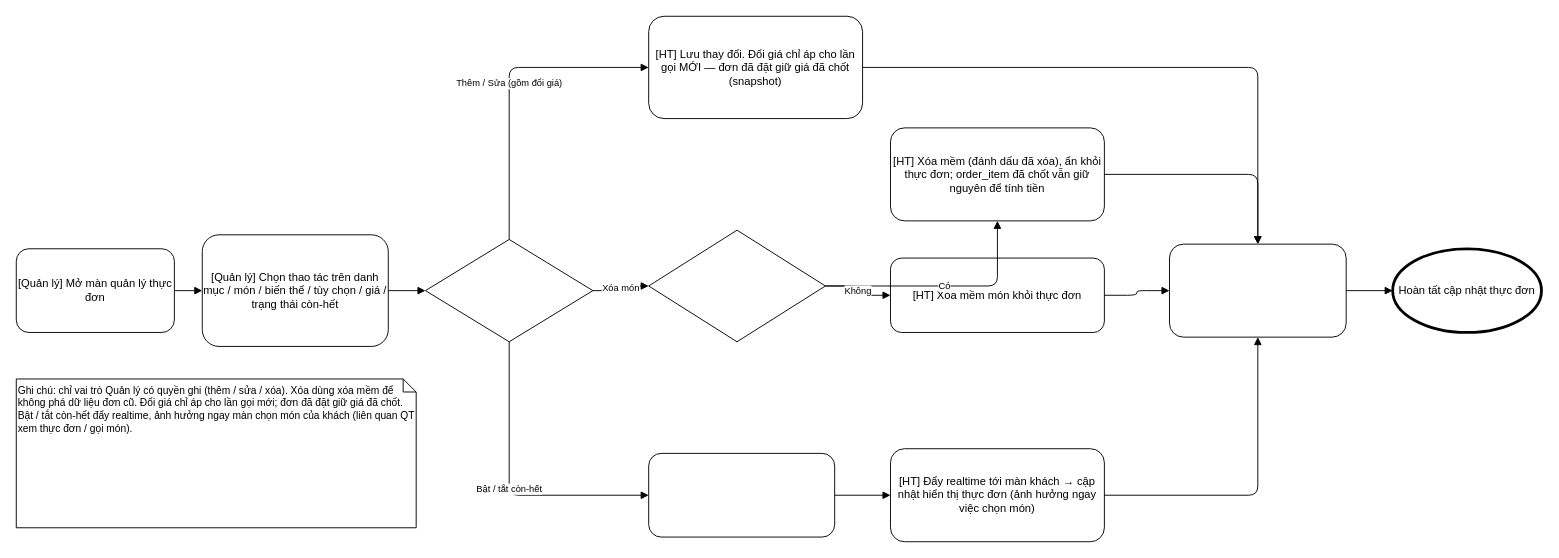
Image size: 1559x558. Some labels were removed from this diagram. Here are the shapes that lost their labels. From the top down, the centre of each, then its label:
pixel 509 290: [HT] Loại thao tác?
pixel 736 285: [HT] Món đang nằm trong phiên / đơn đang hoạt động?
pixel 1257 290: [HT] Cập nhật danh sách thực đơn cho quản lý
pixel 741 494: [HT] Cập nhật trạng thái còn / hết + ghi audit
